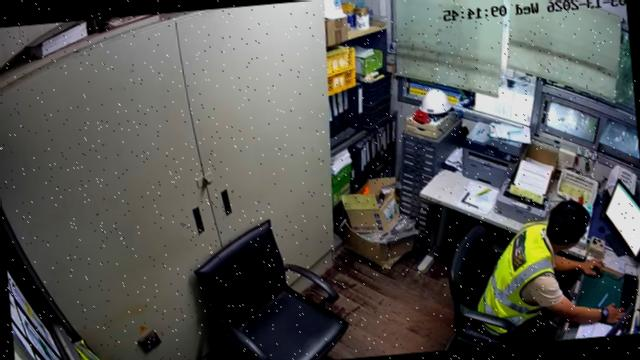Head: (545, 200, 590, 253)
People: (477, 200, 625, 343)
